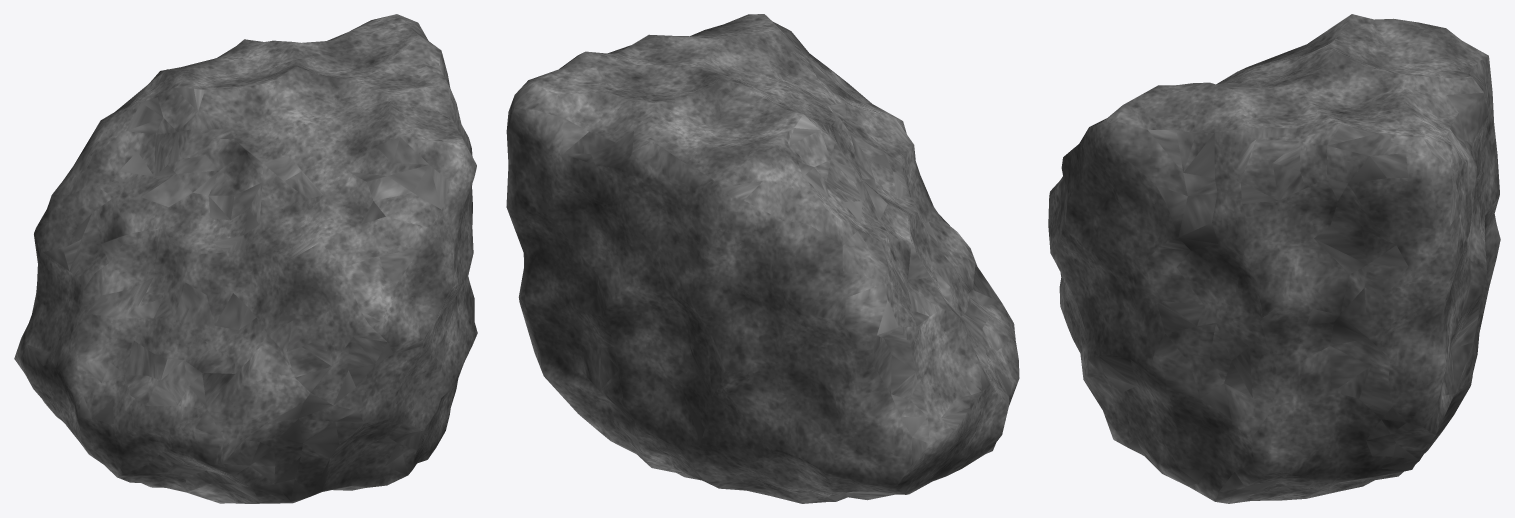
The model's file is asteroid.glb.
The picture shows the model from 3 angles, left to right: view 1: azimuth 30°, elevation 25°; view 2: azimuth 150°, elevation 25°; view 3: azimuth 270°, elevation 25°; orthographic projection. The views are drawn at different scales.
Parts seen in each view (by area): view 1: rock; view 2: rock; view 3: rock.
Part boxes in pixels (left/top/right/bottom): rock: left=14, top=14, right=477, bottom=503; rock: left=506, top=14, right=1019, bottom=503; rock: left=1048, top=14, right=1500, bottom=503.
Size of the model in its own units: 3.82 by 3.47 by 3.26.
1 material, 1 textured.
